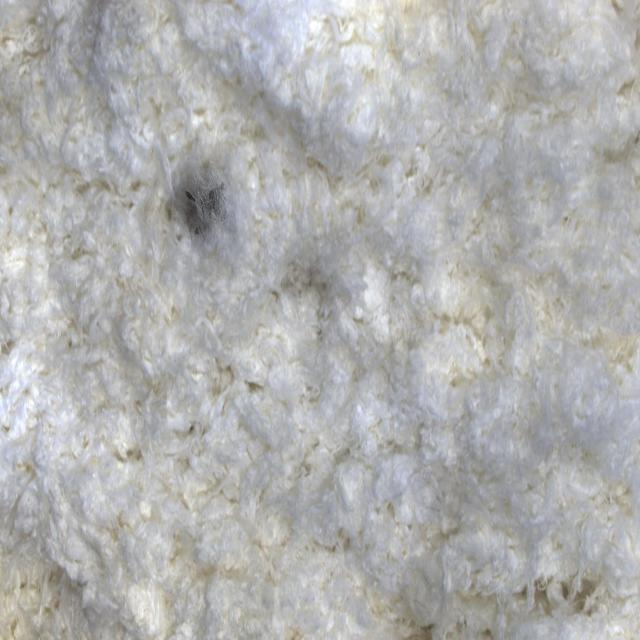dust: (129, 135, 255, 263)
